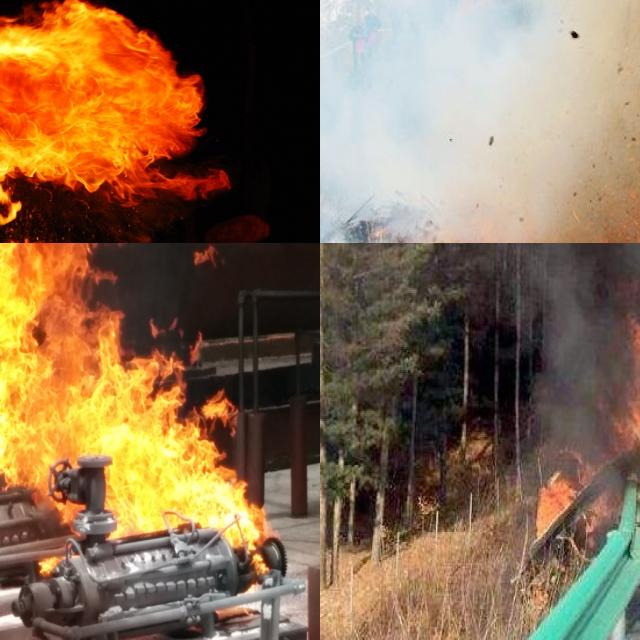fire: (0, 243, 286, 566), (0, 0, 240, 243), (532, 243, 640, 583)
smoke: (320, 0, 640, 235), (501, 243, 640, 443)
